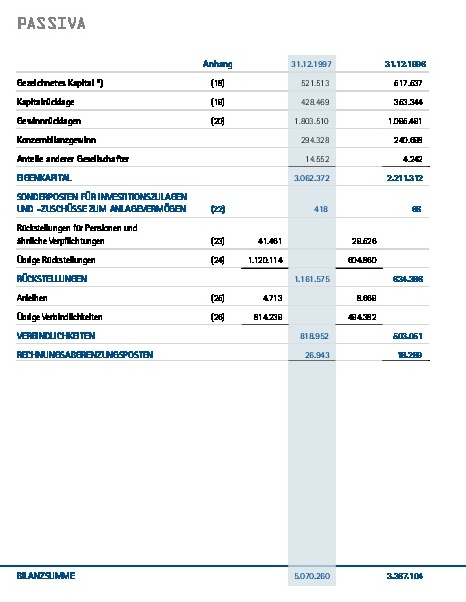table: (0, 0, 466, 602)
